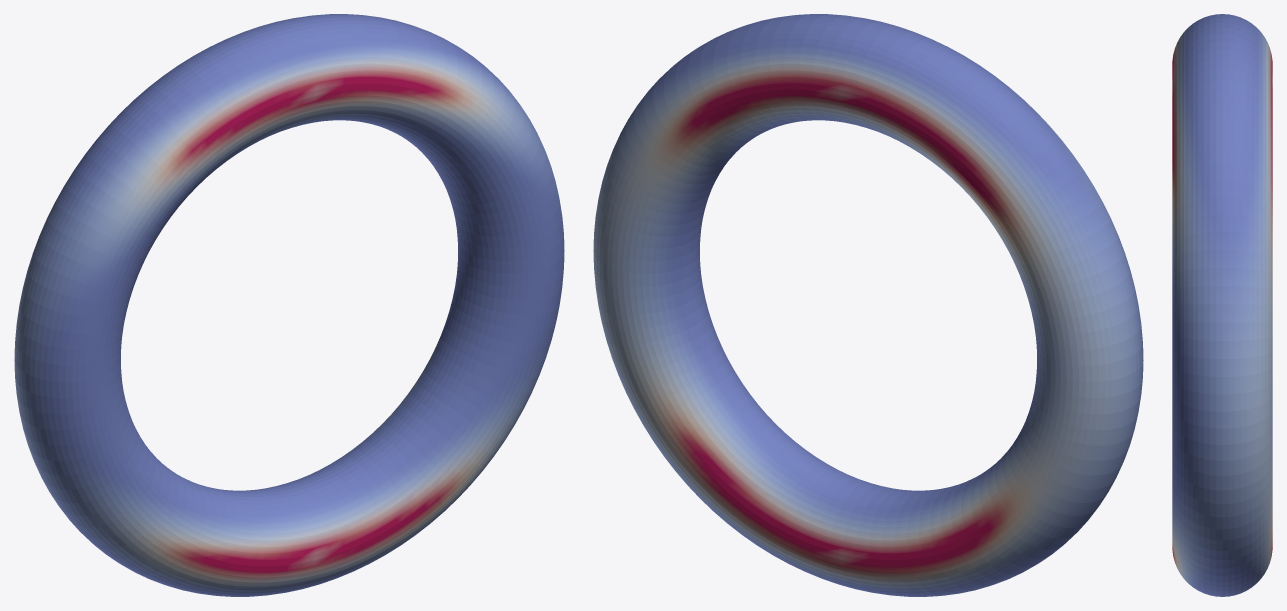
The picture shows the model from 3 angles, left to right: view 1: azimuth 30°, elevation 25°; view 2: azimuth 150°, elevation 25°; view 3: azimuth 270°, elevation 25°; orthographic projection. The views are drawn at different scales.
Parts seen in each view (by area): view 1: world; view 2: world; view 3: world.
Boxes of the visible parts, bbox=[...] form: world: bbox=[14, 14, 564, 596]; world: bbox=[593, 14, 1143, 596]; world: bbox=[1172, 14, 1272, 596].
Size of the model in its own units: 20.93 by 20.93 by 3.59.
